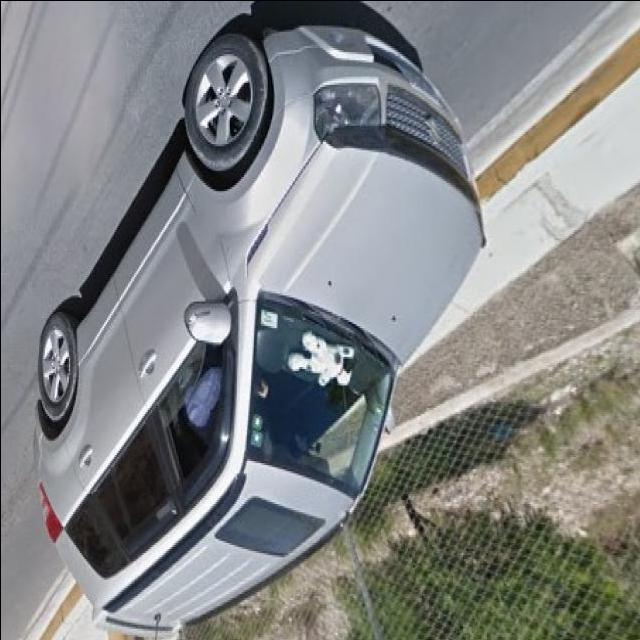car: (31, 14, 484, 626)
